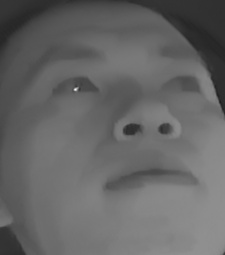eye: (51, 69, 101, 105), (160, 66, 204, 101)
mouth: (94, 153, 198, 204)
